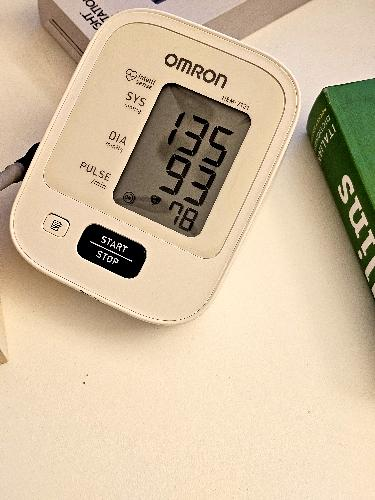bpm: (106, 74, 257, 243)
